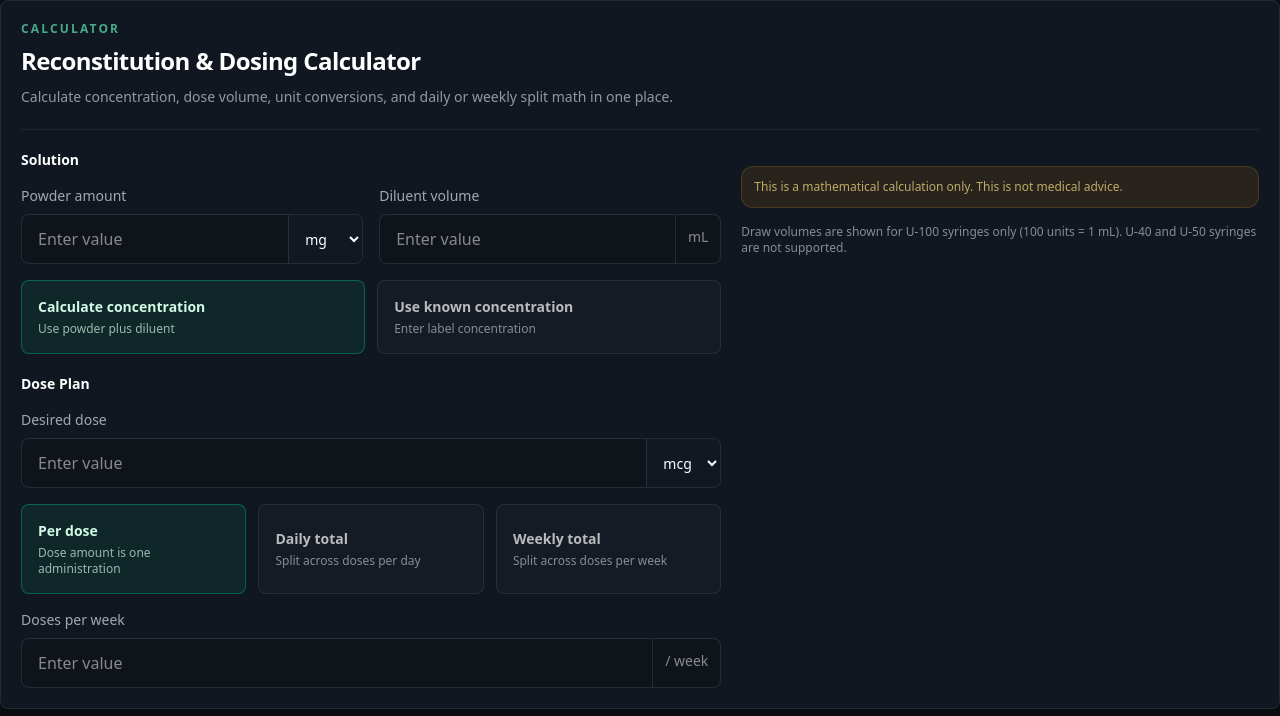
Scenario: UnifiedDosingCalculator › warns when the calculated draw exceeds one U-100 syringe
In the number field labelled "Powder amount": (155, 239) [22, 215, 288, 263], type "5"
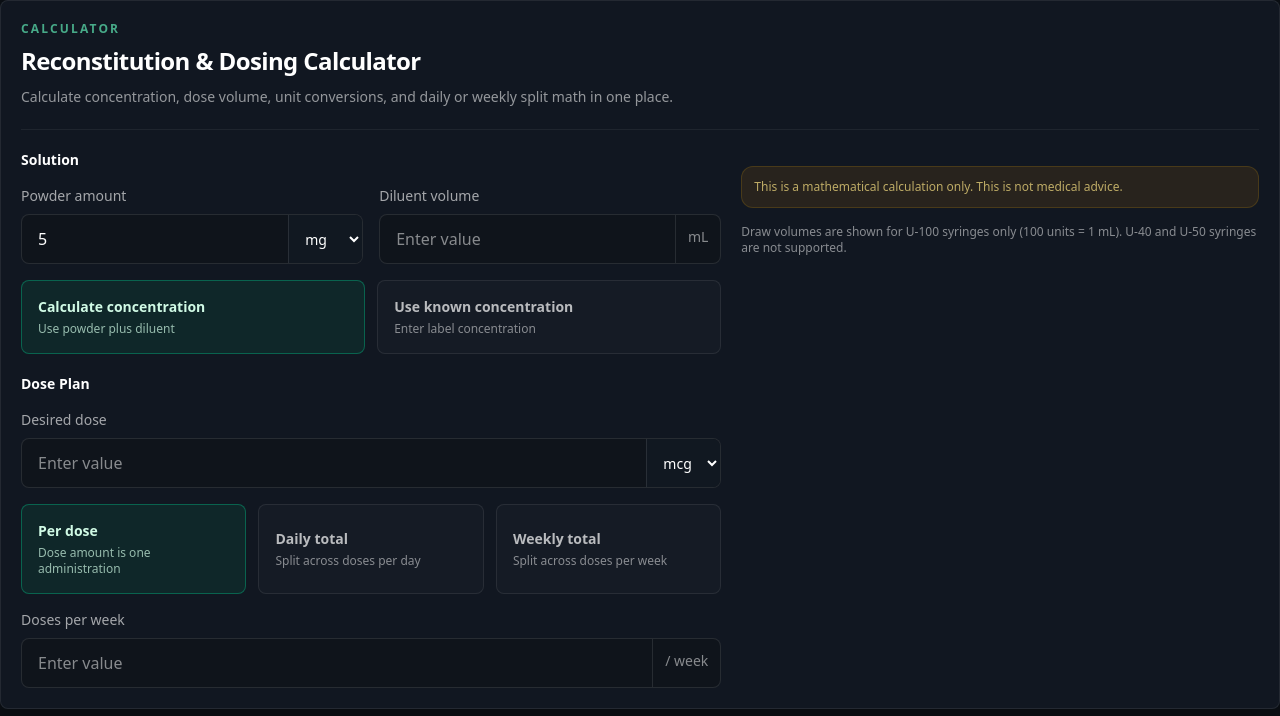
In the number field labelled "Diluent volume mL": (528, 239) [380, 215, 675, 263], type "2"
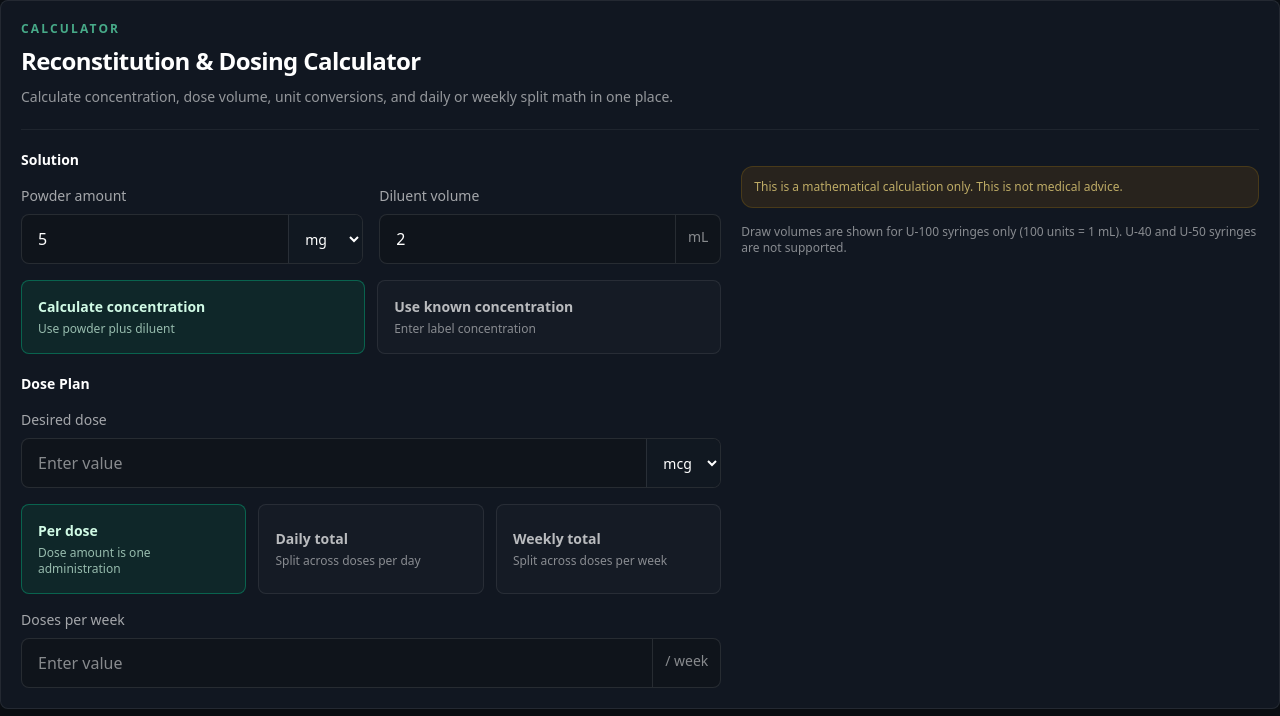
In the number field labelled "Desired dose": (334, 463) [22, 439, 646, 487], type "250"
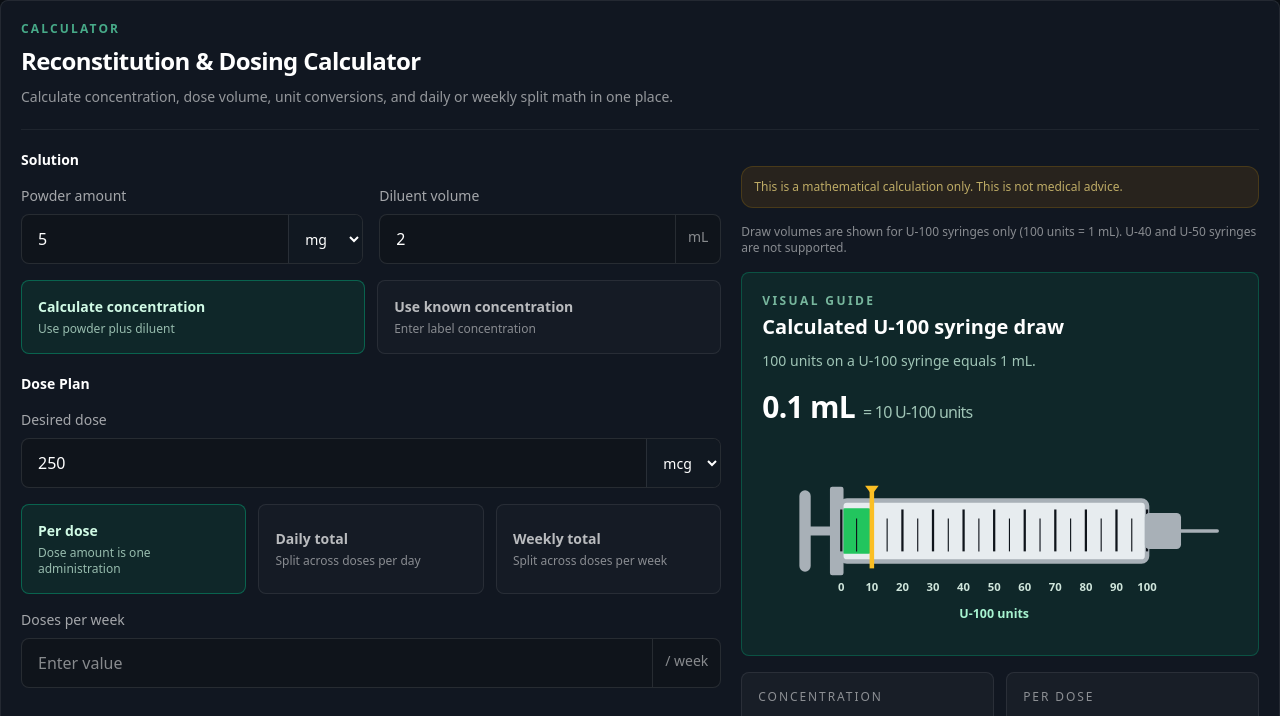
In the number field labelled "Doses per week / week": (337, 663) [22, 639, 652, 687], type "2"
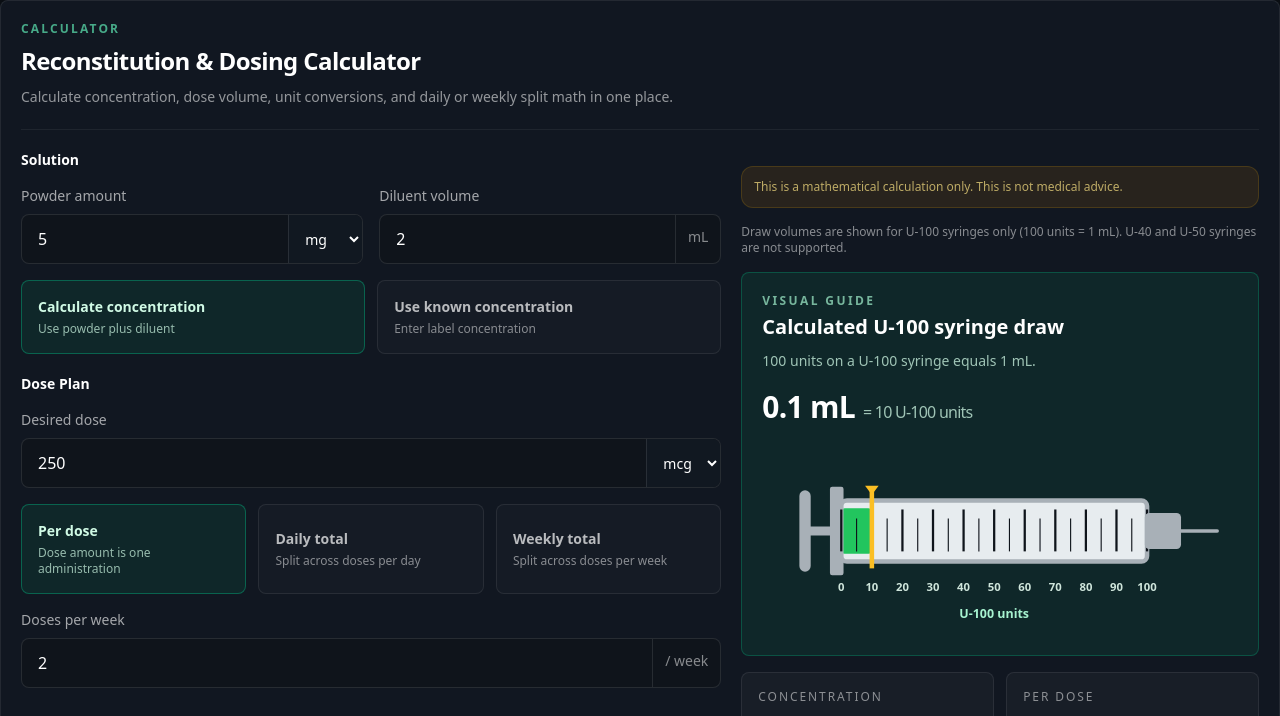
Replace the text in the number field labelled "Desired dose" with "3000": (334, 463) [22, 439, 646, 487]
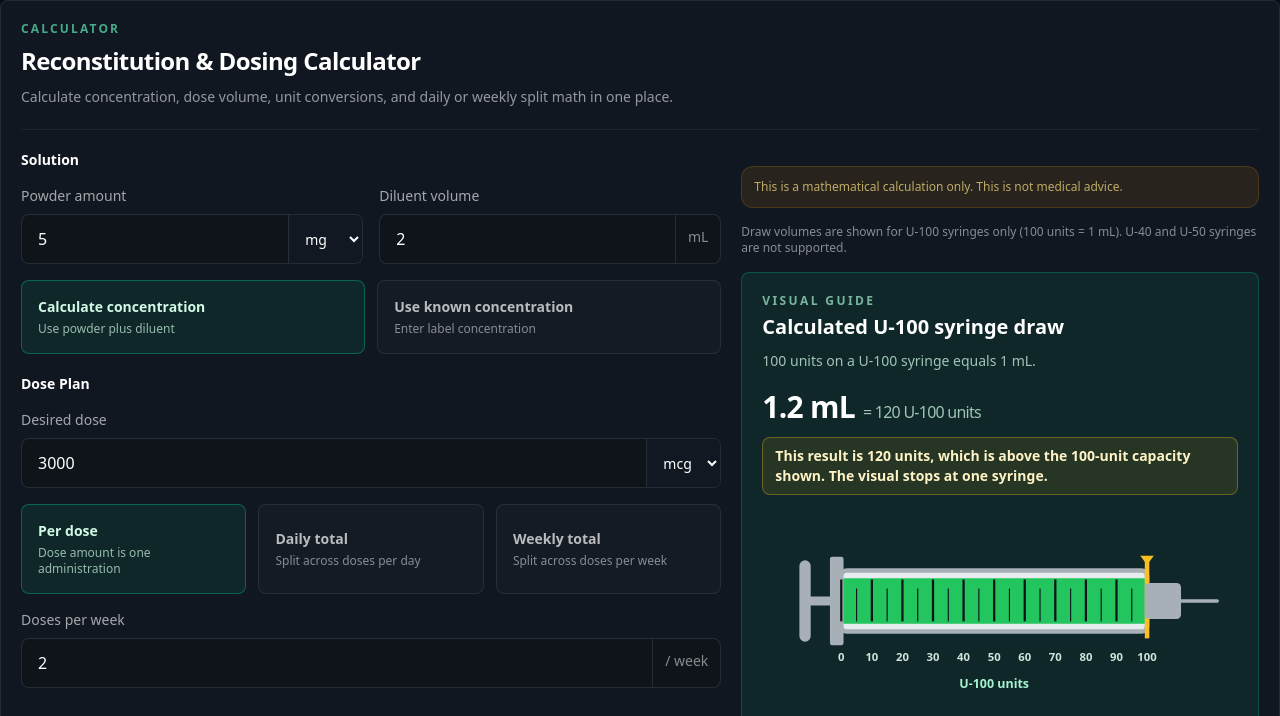
Result: the message shows "above the 100-unit capacity" at [775, 446, 1190, 485]
